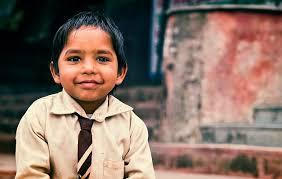Human: (25, 12, 171, 179)
